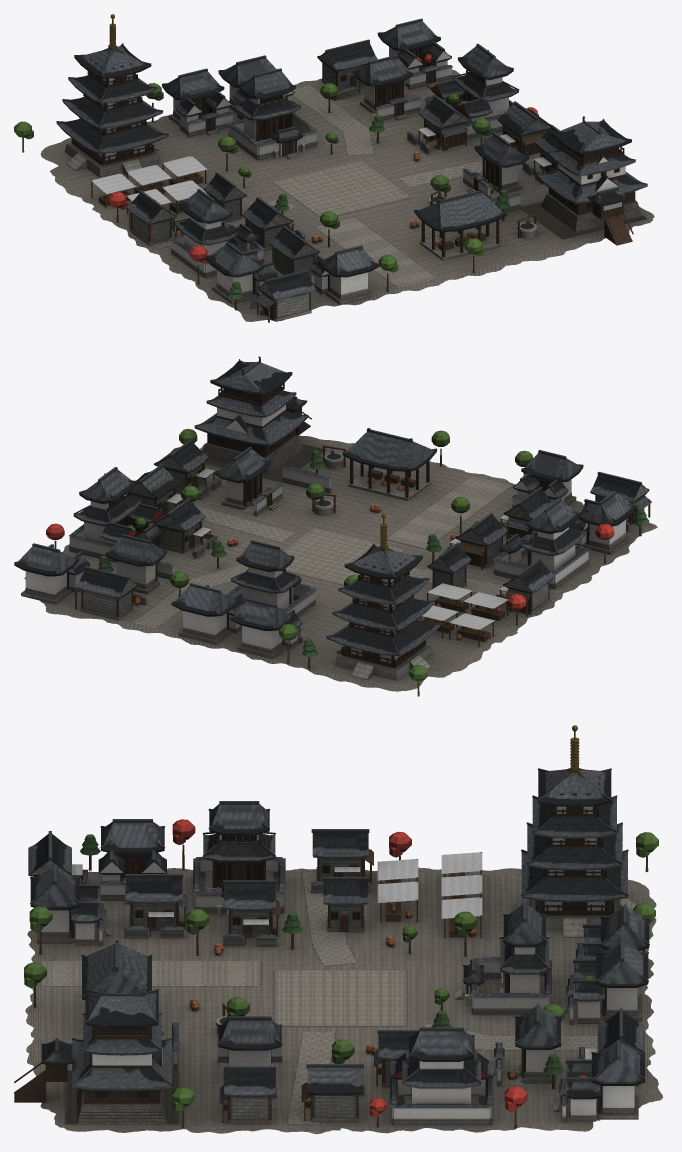
File: kingdoms-town-medium-b-japan-f7208bb7.glb
The picture shows the model from 3 angles, top to bottom: view 1: azimuth 30°, elevation 25°; view 2: azimuth 150°, elevation 25°; view 3: azimuth 270°, elevation 25°; orthographic projection. The views are drawn at different scales.
Visible parts, largest first — view 1: LOD0; view 2: LOD0; view 3: LOD0.
Part boxes in pixels (box(x1,y1,x2,y2)): LOD0: box(14, 14, 654, 322); LOD0: box(14, 356, 657, 696); LOD0: box(14, 725, 662, 1134).
Size of what is drawn, in the model's own units: 6.04 by 1.95 by 6.14.
3 materials, 3 textured.
